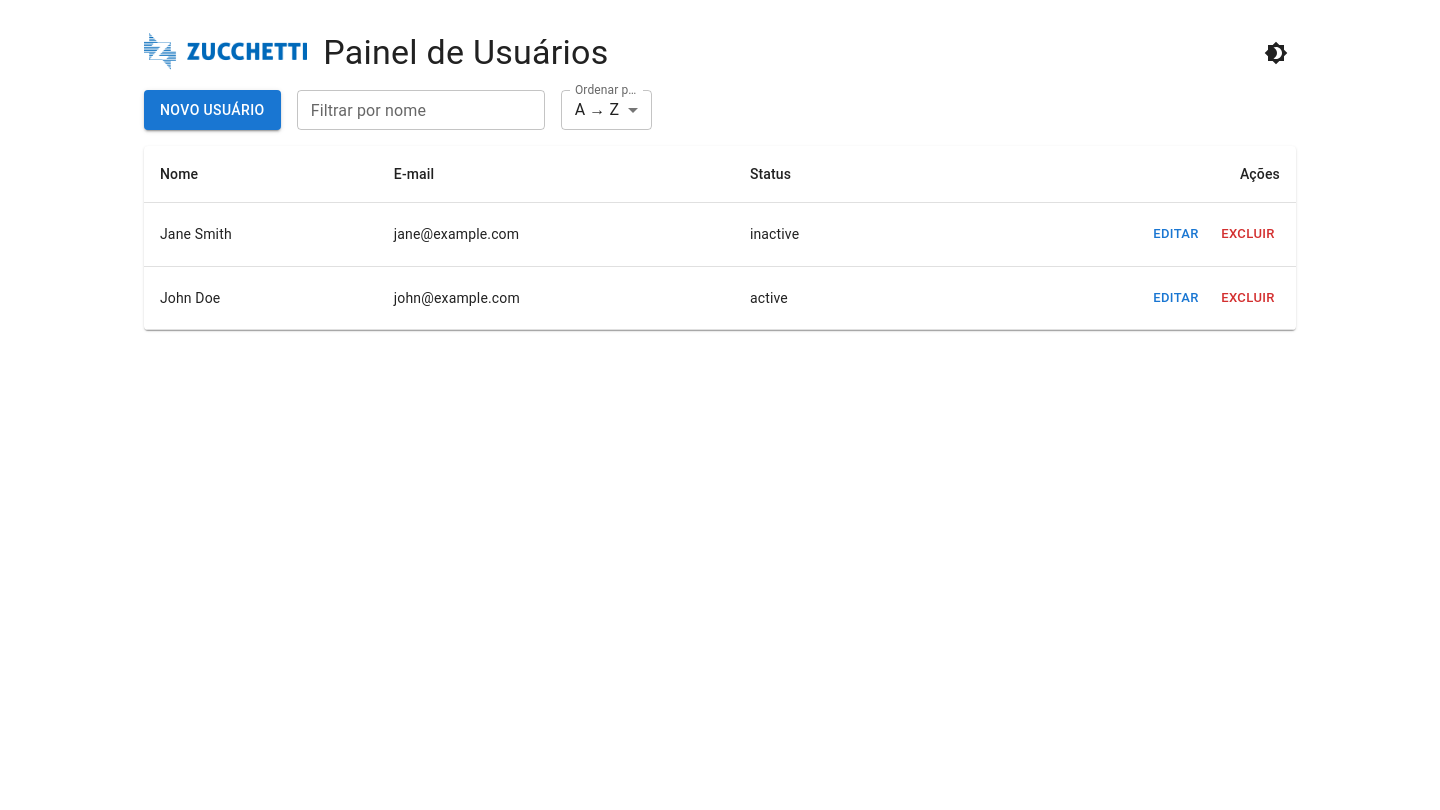
Test case: UsersPage › edita um usuário existente através do formulário
The image size is (1440, 810).
Expected: the text "John Doe" is shown, [144,266,378,330]
Click the button "Editar" in the row of "John Doe".
click(1176, 298)  # box [1144,283,1208,314]
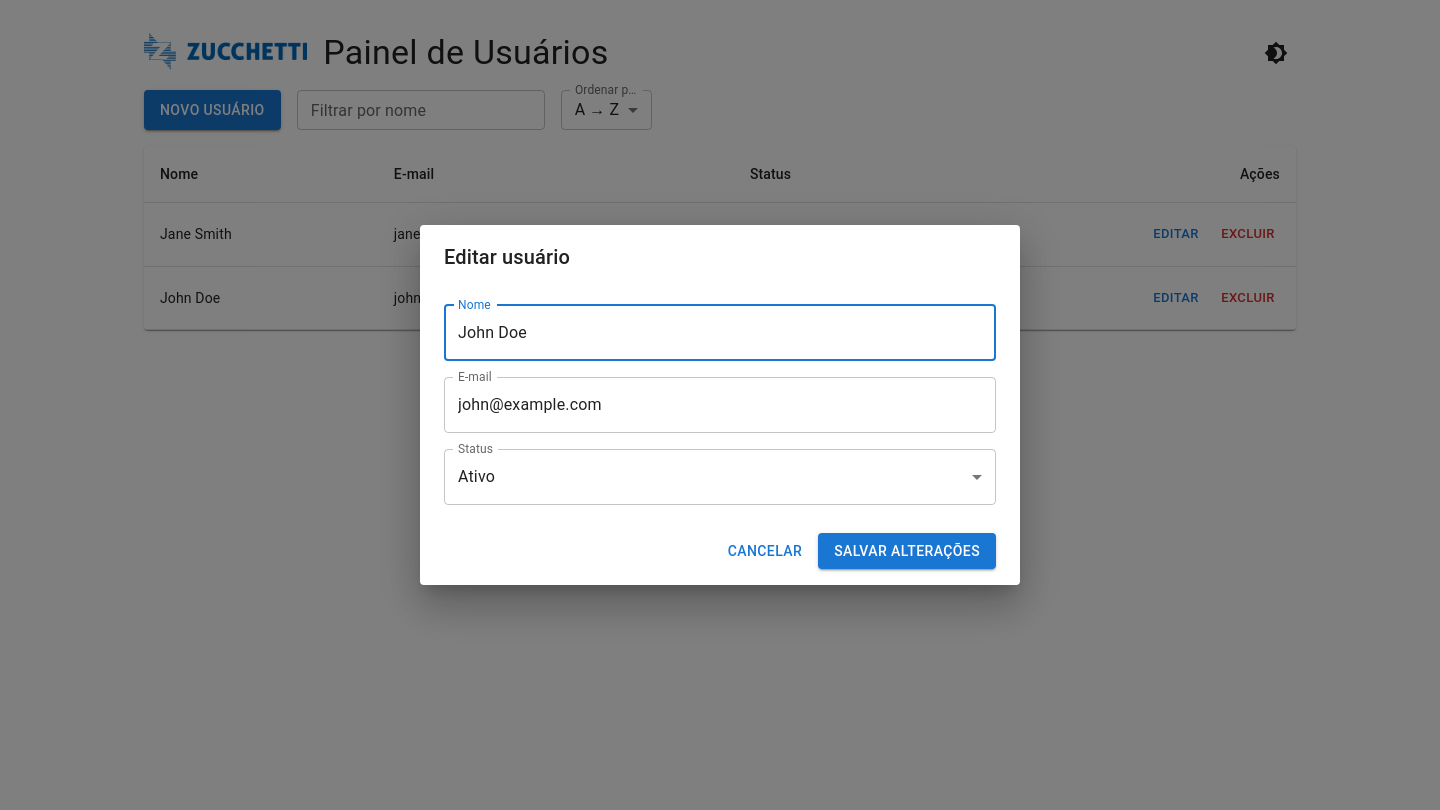
Replace the text in the field labelled "Nome" with "John Editado" at (720, 333), box [444,305,996,361]
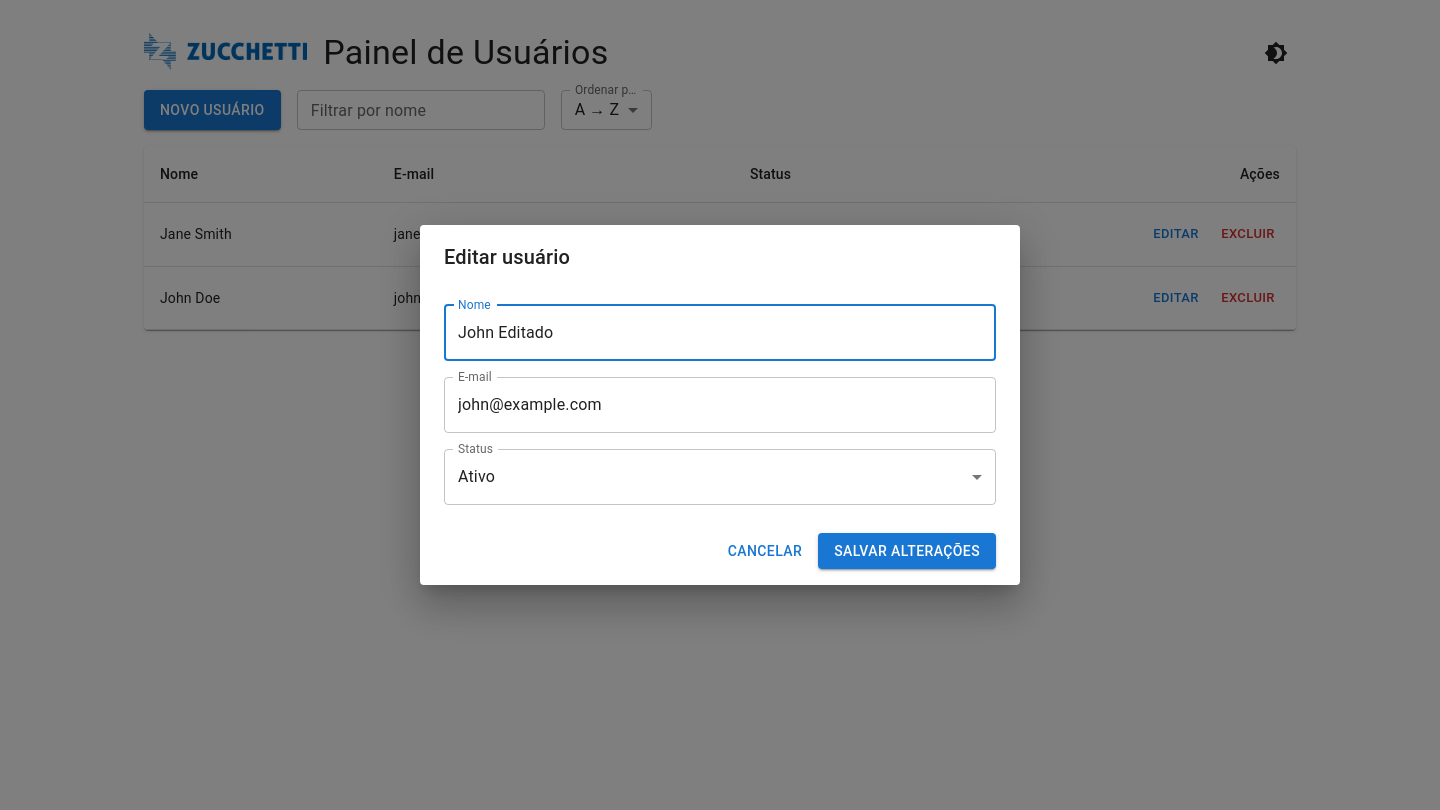
Replace the text in the field labelled "E-mail" with "john.editado@example.com" at (720, 405), box [444,377,996,433]
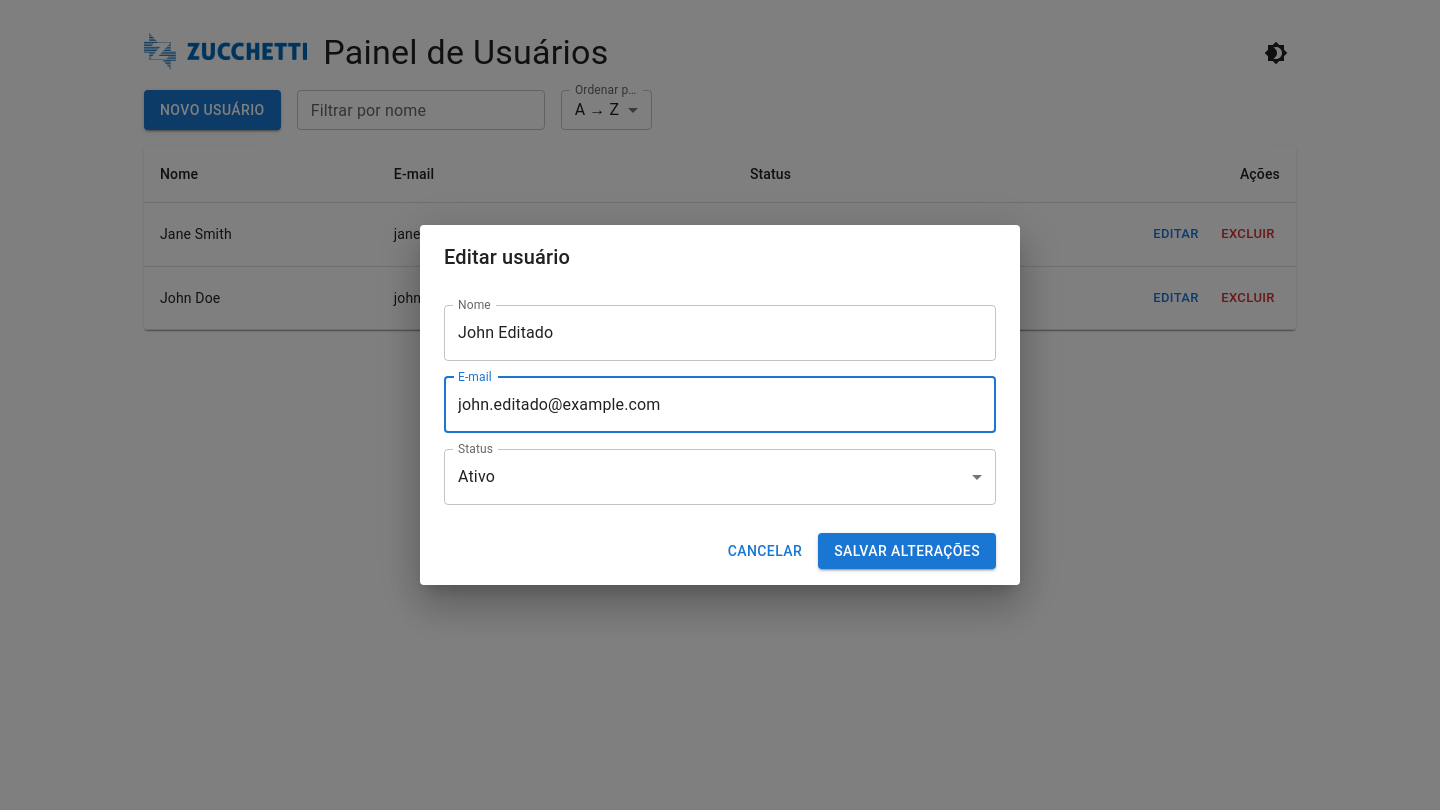
Click the button "Salvar alterações".
click(907, 551)  # box [818,533,996,569]
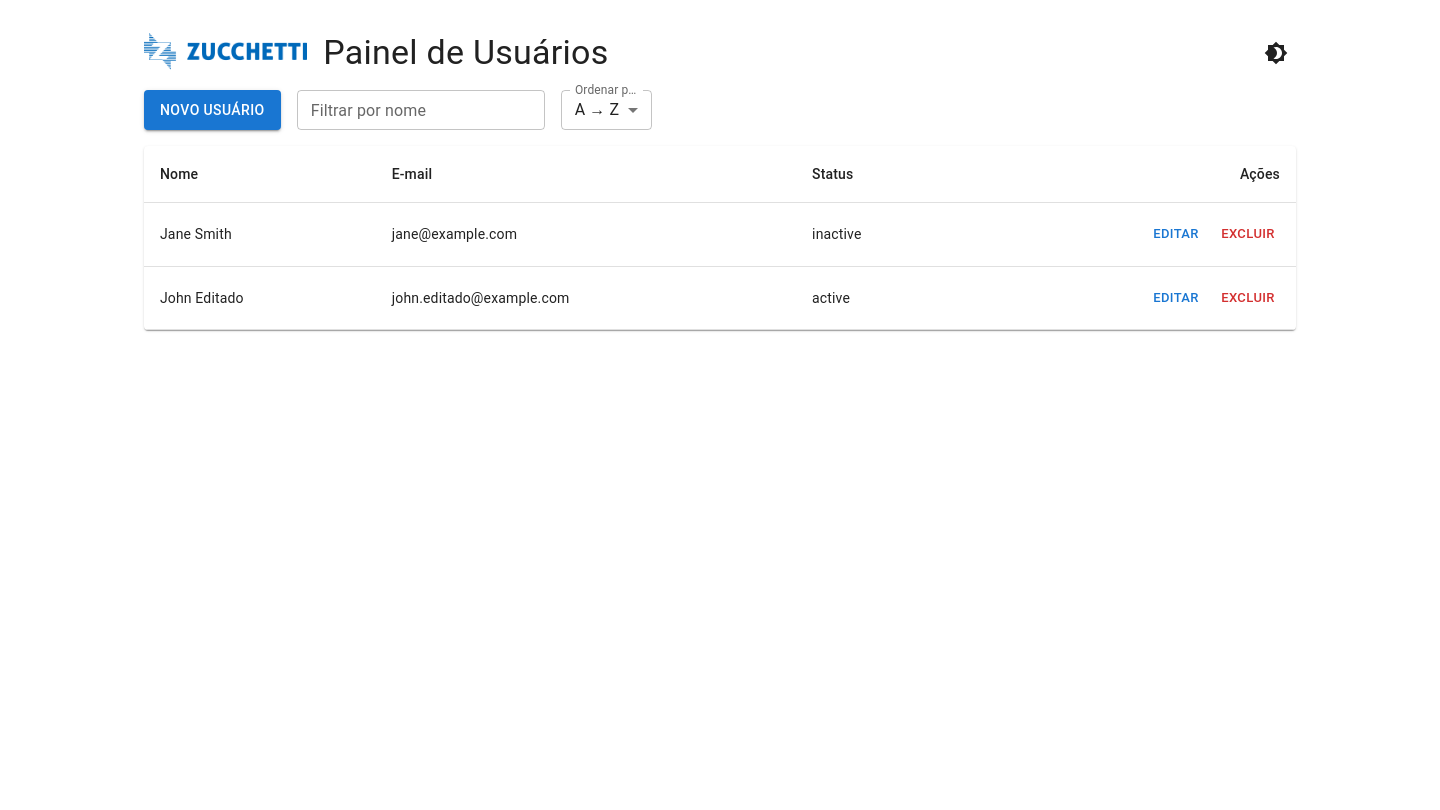
Expected: the text "John Editado" is shown, [144,266,376,330]
Expected: the text "john.editado@example.com" is shown, [376,266,796,330]
